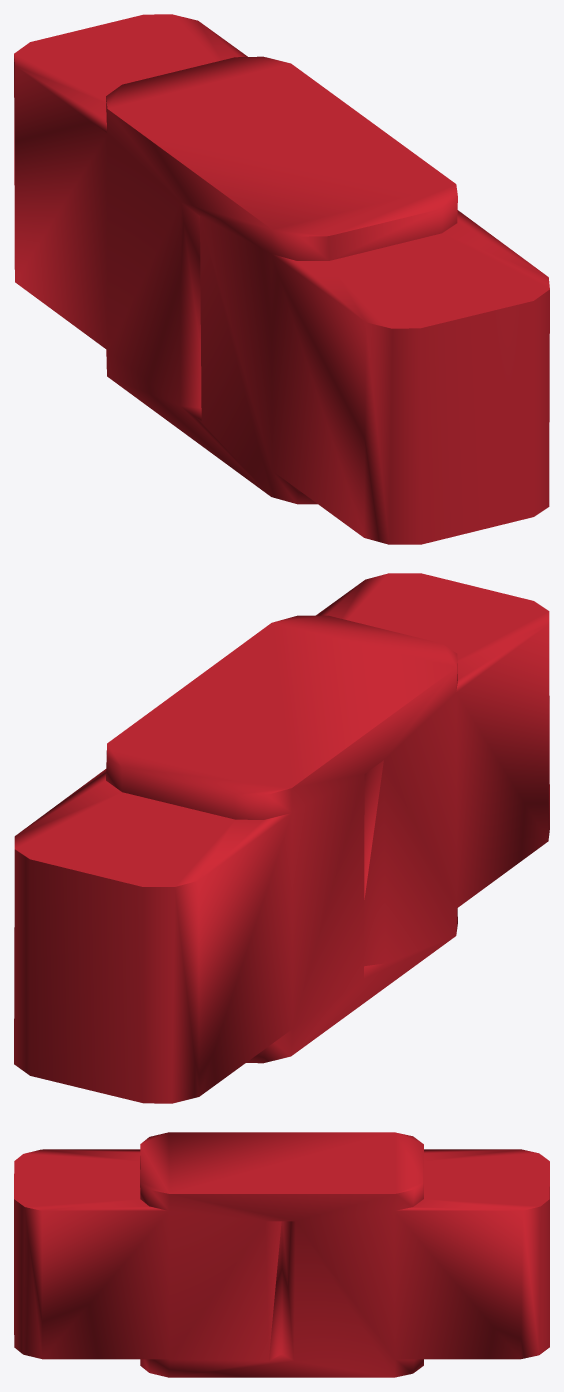
The model's file is 2_finger.obj.
3 views of the same model, one above another, from view 1: azimuth 30°, elevation 25°; view 2: azimuth 150°, elevation 25°; view 3: azimuth 270°, elevation 25° (orthographic). The views are drawn at different scales.
Parts seen in each view (by area): view 1: 2_finger; view 2: 2_finger; view 3: 2_finger.
Part boxes in pixels (x1=…): 2_finger: x1=14, y1=14, x2=549, y2=544; 2_finger: x1=14, y1=573, x2=549, y2=1103; 2_finger: x1=14, y1=1132, x2=549, y2=1377.
Size of the model in its own units: 0.0195 by 0.027 by 0.0714.
